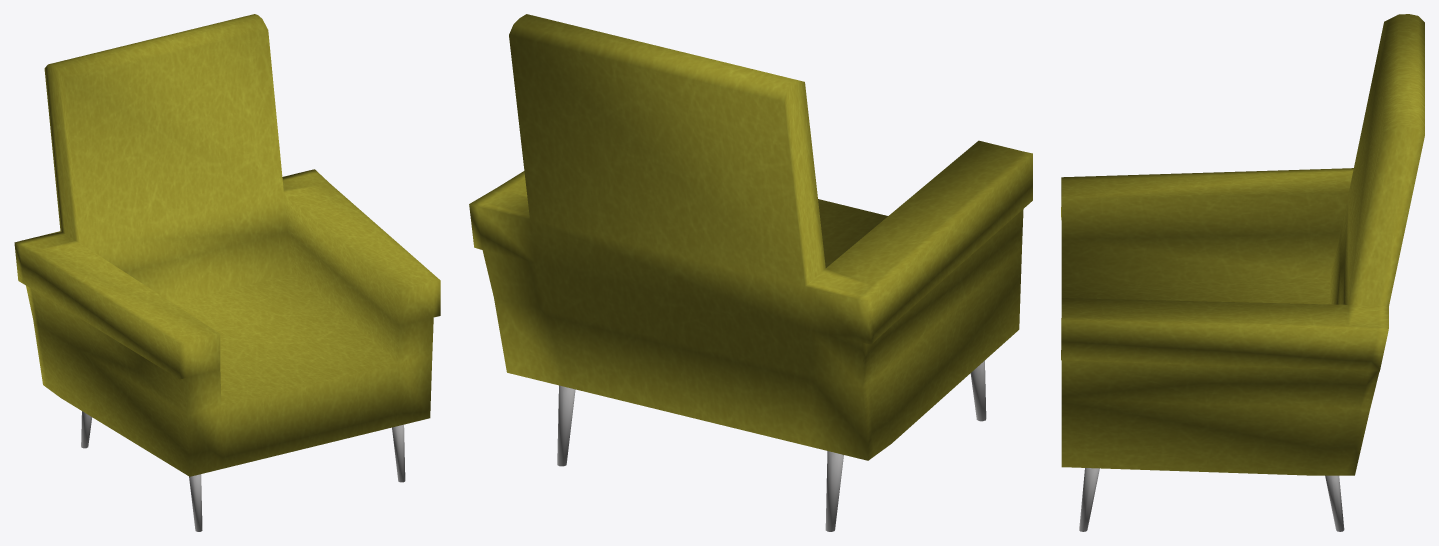
3 views of the same model, side by side, from view 1: azimuth 30°, elevation 25°; view 2: azimuth 150°, elevation 25°; view 3: azimuth 270°, elevation 25° (orthographic). The views are drawn at different scales.
Visible parts, largest first — view 1: armchair_low, armchair_legs_low; view 2: armchair_low, armchair_legs_low; view 3: armchair_low, armchair_legs_low.
Boxes of the visible parts, left/top/right/bottom form: armchair_low: left=14, top=14, right=440, bottom=476; armchair_legs_low: left=81, top=411, right=405, bottom=531; armchair_low: left=469, top=14, right=1032, bottom=460; armchair_legs_low: left=557, top=360, right=986, bottom=531; armchair_low: left=1061, top=14, right=1424, bottom=475; armchair_legs_low: left=1079, top=468, right=1344, bottom=531.
Bounding box in the file's own units: 156 × 178 × 145.
2 materials, 2 textured.
